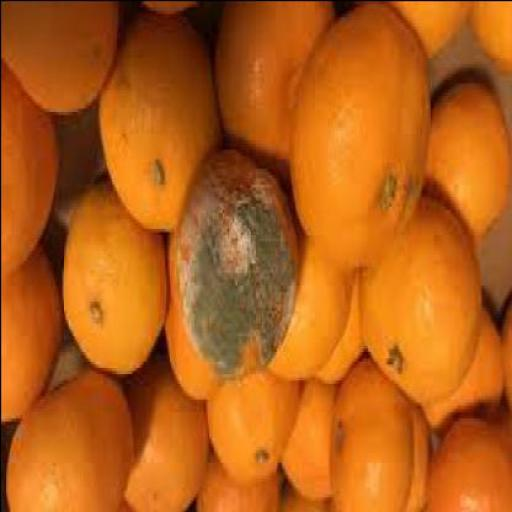biodegradable: (288, 6, 432, 272), (180, 151, 298, 383), (360, 196, 482, 411), (102, 22, 222, 234), (214, 3, 337, 187), (64, 183, 166, 379), (6, 375, 136, 511), (424, 82, 510, 247), (2, 3, 120, 120), (123, 359, 211, 511), (1, 60, 62, 278), (206, 354, 302, 490), (267, 228, 350, 382), (334, 354, 414, 509), (2, 253, 64, 426), (422, 306, 502, 436), (165, 238, 225, 408), (430, 414, 510, 510), (280, 379, 338, 502), (380, 3, 470, 60), (321, 278, 365, 389), (198, 455, 282, 511), (468, 2, 510, 76), (403, 408, 431, 511), (277, 470, 336, 511), (139, 3, 203, 23), (502, 297, 511, 428)
